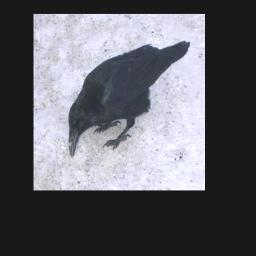Crow: (69, 40, 192, 157)
